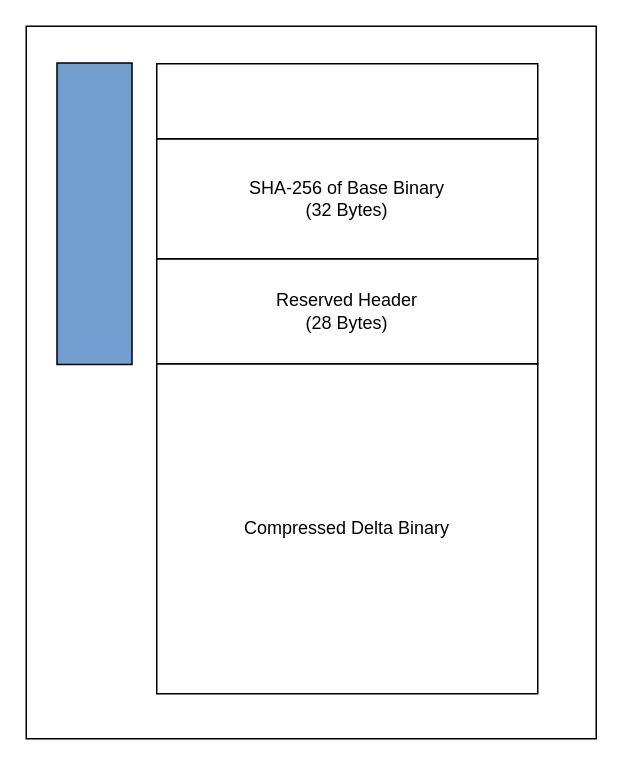
Image size: 623x765. Some labels were removed from this diagram. The centre of each missing label's shape, as x and y in pixels:
Image Header (64 Bytes): point (94, 213)
Image Magic (4 Bytes): point (346, 100)
